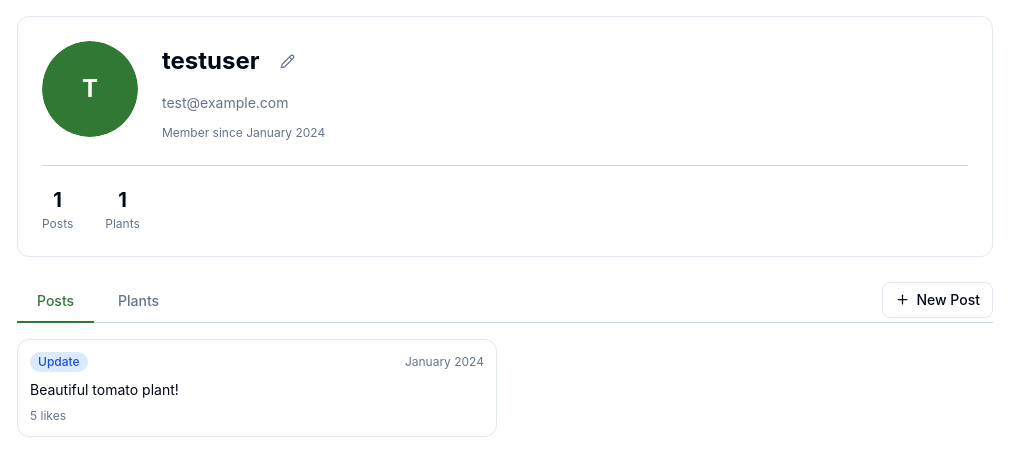
Test case: ProfilePage › Tabs › switches to plants tab and shows plant content, then back to posts
This screenshot has width=1010, height=454.
Expected: the text "Beautiful tomato plant!" is shown, 30,381 -> 179,398
Note: Switch to Plants tab
Click the button "Plants" at x=139, y=302, box 98,281 -> 179,323
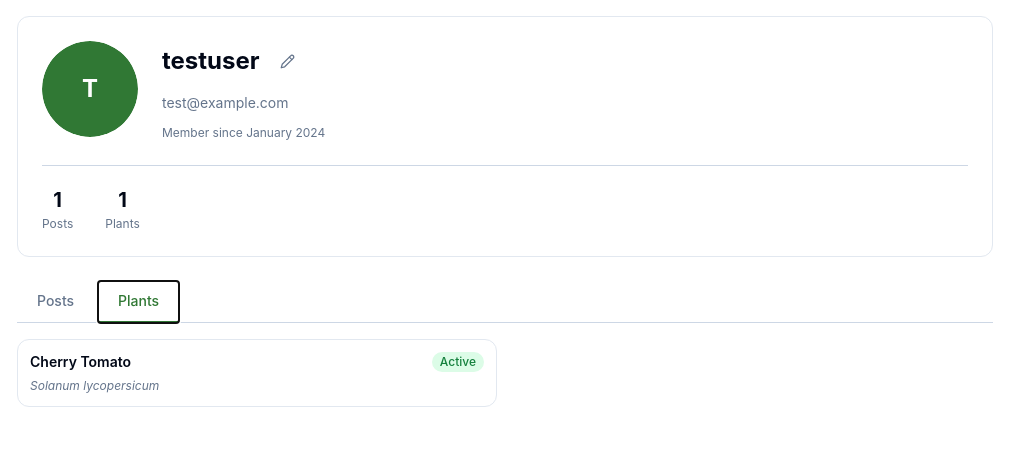
Now the text "Cherry Tomato" is shown, box 30,352 -> 131,372
Now the text "Beautiful tomato plant!" is gone
Note: Switch back to Posts tab
Click the button "Posts" at x=56, y=302, box 17,281 -> 94,323
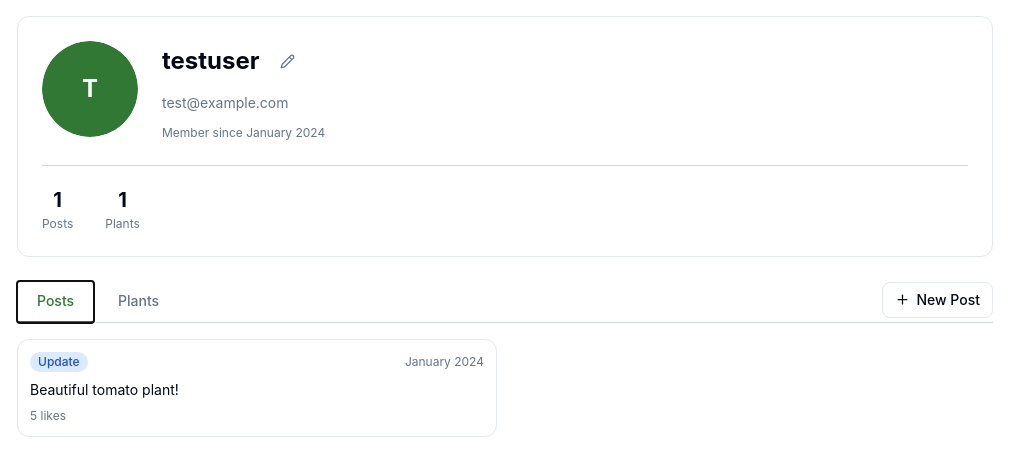
Now the text "Beautiful tomato plant!" is shown, box 30,381 -> 179,398
Now the text "Cherry Tomato" is gone
